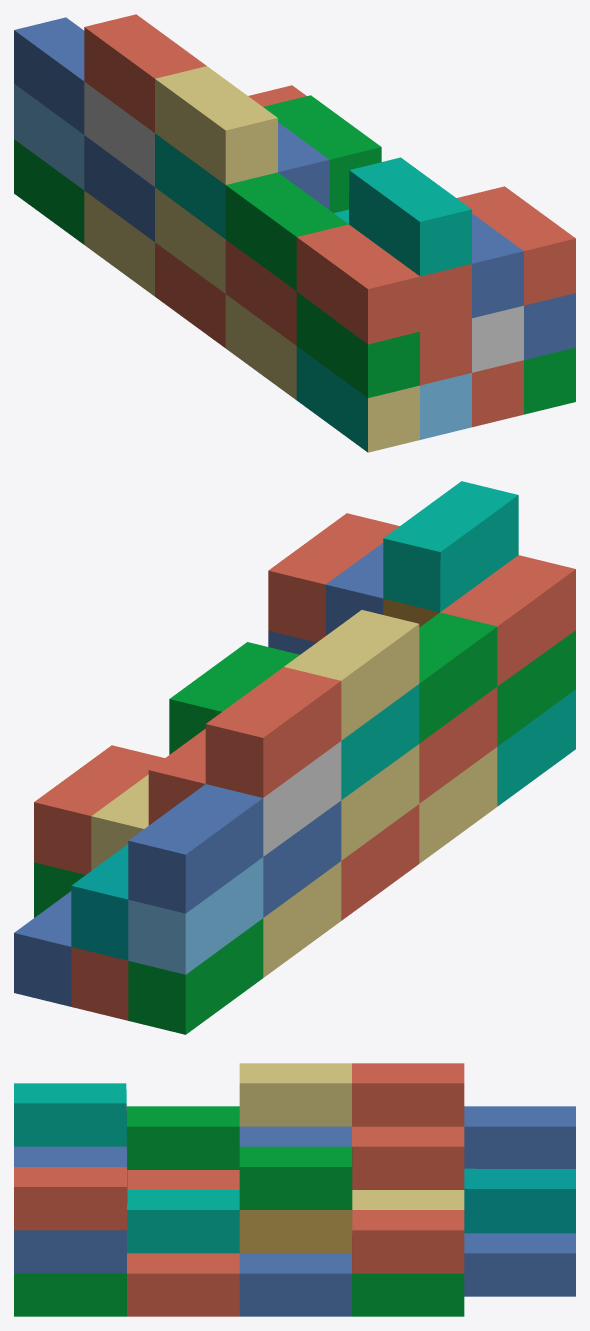
The model's file is Container_Group_3.fbx.
3 renders of one model, top to bottom at view 1: azimuth 30°, elevation 25°; view 2: azimuth 150°, elevation 25°; view 3: azimuth 270°, elevation 25°, orthographic. The views are drawn at different scales.
Parts seen in each view (by area): view 1: Container_Group_3; view 2: Container_Group_3; view 3: Container_Group_3.
Boxes of the visible parts, <box> form: Container_Group_3: <box>14,14,575,452</box>; Container_Group_3: <box>14,481,575,1034</box>; Container_Group_3: <box>14,1063,575,1316</box>.
Bounding box in the file's own units: 2.97 × 2.98 × 8.77.
